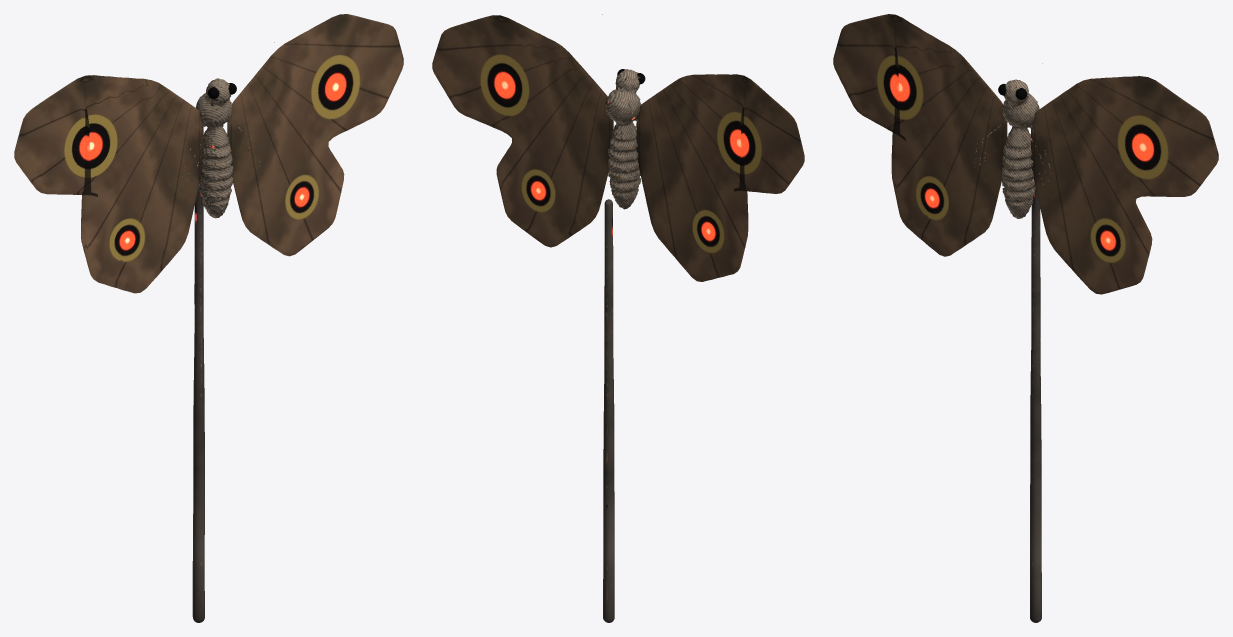
File: giant_moth.glb
The picture shows the model from 3 angles, left to right: view 1: azimuth 30°, elevation 25°; view 2: azimuth 150°, elevation 25°; view 3: azimuth 330°, elevation 25°; orthographic projection. The views are drawn at different scales.
Visible parts, largest first — view 1: Wing_R_Membrane, Wing_L_Membrane, Moth_Perch, Moth_Body; view 2: Wing_L_Membrane, Wing_R_Membrane, Moth_Perch, Moth_Body; view 3: Wing_L_Membrane, Wing_R_Membrane, Moth_Perch, Moth_Body.
Part boxes in pixels (box(x1,y1,x2,y2)): Wing_R_Membrane: box(14, 75, 203, 293); Wing_L_Membrane: box(227, 14, 403, 256); Moth_Perch: box(192, 184, 204, 622); Moth_Body: box(181, 42, 274, 218); Wing_L_Membrane: box(432, 15, 613, 247); Wing_R_Membrane: box(636, 74, 804, 281); Moth_Perch: box(603, 199, 614, 622); Moth_Body: box(602, 14, 641, 209); Wing_L_Membrane: box(1031, 76, 1218, 294); Wing_R_Membrane: box(833, 14, 1007, 256); Moth_Perch: box(1030, 186, 1041, 622); Moth_Body: box(974, 63, 1052, 218).
Size of the model in its own units: 1.35 by 1.97 by 0.2257.
Materials: 1 (1 with a texture image).
